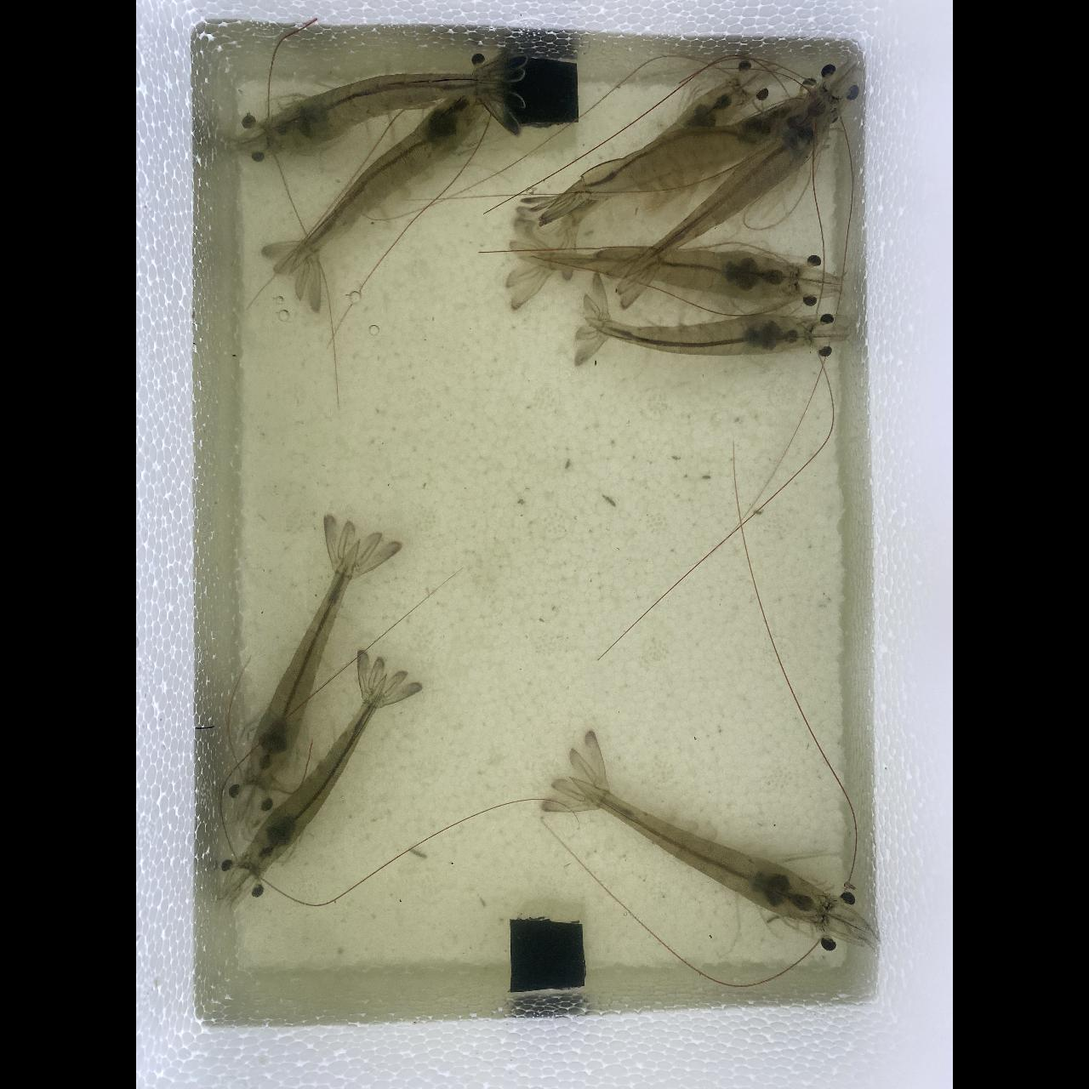box: (495, 60, 577, 126), (510, 921, 584, 992)
top_shrimp: (626, 105, 834, 281), (286, 90, 488, 271), (572, 779, 825, 922), (549, 98, 809, 208), (248, 546, 359, 790), (560, 86, 745, 231), (245, 682, 386, 871), (271, 73, 508, 147), (526, 250, 795, 299), (596, 315, 810, 352)
